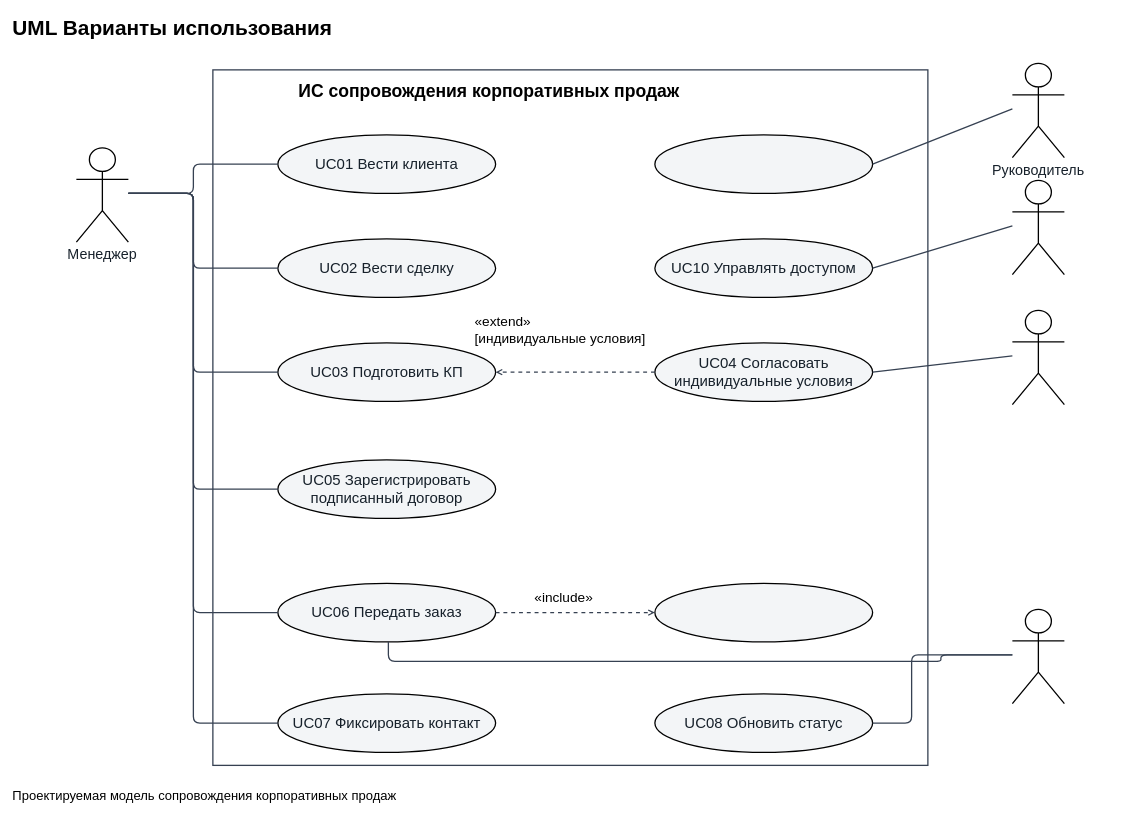
Some shapes in this 1140 by 815 pixel diagram are drawn without their labels. Here are the shapes that lost their labels. From the top down, the box of each, then its label:
(654, 134, 873, 194): UC09 Получить отчёт
(1011, 179, 1065, 275): Администратор
(1011, 309, 1065, 405): Согласующий
(654, 582, 873, 642): UC11 Проверить подписанный договор
(1011, 608, 1065, 704): Система подключения
